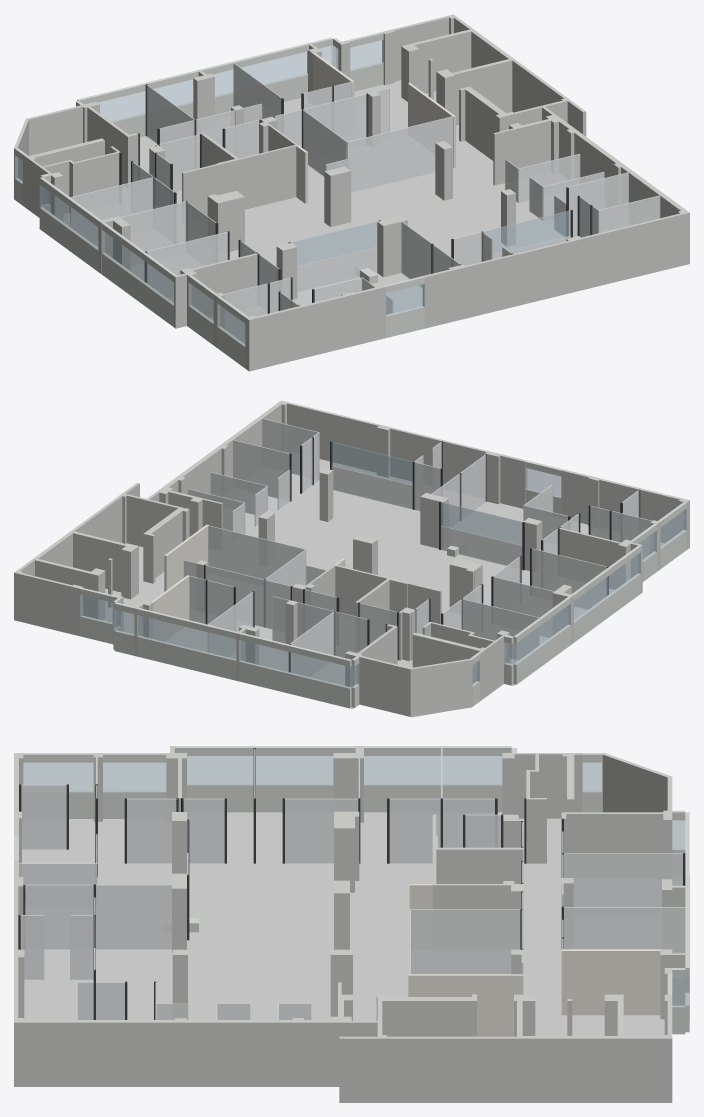
Rendered from 12-open-doors.glb.
3 renders of one model, top to bottom at view 1: azimuth 30°, elevation 25°; view 2: azimuth 150°, elevation 25°; view 3: azimuth 270°, elevation 25°, orthographic. The views are drawn at different scales.
Parts seen in each view (by area): view 1: Floor4_12-open-doors_concrete_Blocking, Floor4_12-open-doors_frosted_Blocking, Floor4_12-open-doors_Floor, Floor4_12-open-doors_glass_Blocking, Floor4_12-open-doors_wall_Blocking, Floor4_12-open-doors_partition_Blocking, Floor4_12-open-doors_aluminum_Blocking; view 2: Floor4_12-open-doors_concrete_Blocking, Floor4_12-open-doors_frosted_Blocking, Floor4_12-open-doors_Floor, Floor4_12-open-doors_wall_Blocking, Floor4_12-open-doors_glass_Blocking, Floor4_12-open-doors_partition_Blocking, Floor4_12-open-doors_aluminum_Blocking; view 3: Floor4_12-open-doors_concrete_Blocking, Floor4_12-open-doors_Floor, Floor4_12-open-doors_frosted_Blocking, Floor4_12-open-doors_wall_Blocking, Floor4_12-open-doors_glass_Blocking, Floor4_12-open-doors_partition_Blocking, Floor4_12-open-doors_aluminum_Blocking.
Boxes of the visible parts, <box> form: Floor4_12-open-doors_concrete_Blocking: <box>14,14,689,371</box>; Floor4_12-open-doors_frosted_Blocking: <box>70,63,660,340</box>; Floor4_12-open-doors_Floor: <box>39,80,563,343</box>; Floor4_12-open-doors_glass_Blocking: <box>15,40,570,346</box>; Floor4_12-open-doors_wall_Blocking: <box>15,32,424,368</box>; Floor4_12-open-doors_partition_Blocking: <box>296,53,455,203</box>; Floor4_12-open-doors_aluminum_Blocking: <box>119,84,592,313</box>; Floor4_12-open-doors_concrete_Blocking: <box>14,400,689,716</box>; Floor4_12-open-doors_frosted_Blocking: <box>183,418,652,676</box>; Floor4_12-open-doors_Floor: <box>103,459,664,717</box>; Floor4_12-open-doors_wall_Blocking: <box>80,460,686,708</box>; Floor4_12-open-doors_glass_Blocking: <box>80,442,686,688</box>; Floor4_12-open-doors_partition_Blocking: <box>151,524,345,641</box>; Floor4_12-open-doors_aluminum_Blocking: <box>204,437,640,672</box>; Floor4_12-open-doors_concrete_Blocking: <box>14,746,689,1102</box>; Floor4_12-open-doors_Floor: <box>22,812,689,1036</box>; Floor4_12-open-doors_frosted_Blocking: <box>19,748,685,1019</box>; Floor4_12-open-doors_wall_Blocking: <box>14,746,689,1034</box>; Floor4_12-open-doors_glass_Blocking: <box>23,756,689,1007</box>; Floor4_12-open-doors_partition_Blocking: <box>408,884,660,1036</box>; Floor4_12-open-doors_aluminum_Blocking: <box>18,748,685,1019</box>.
Bounding box in the file's own units: 23.41 × 2.4 × 22.85.
